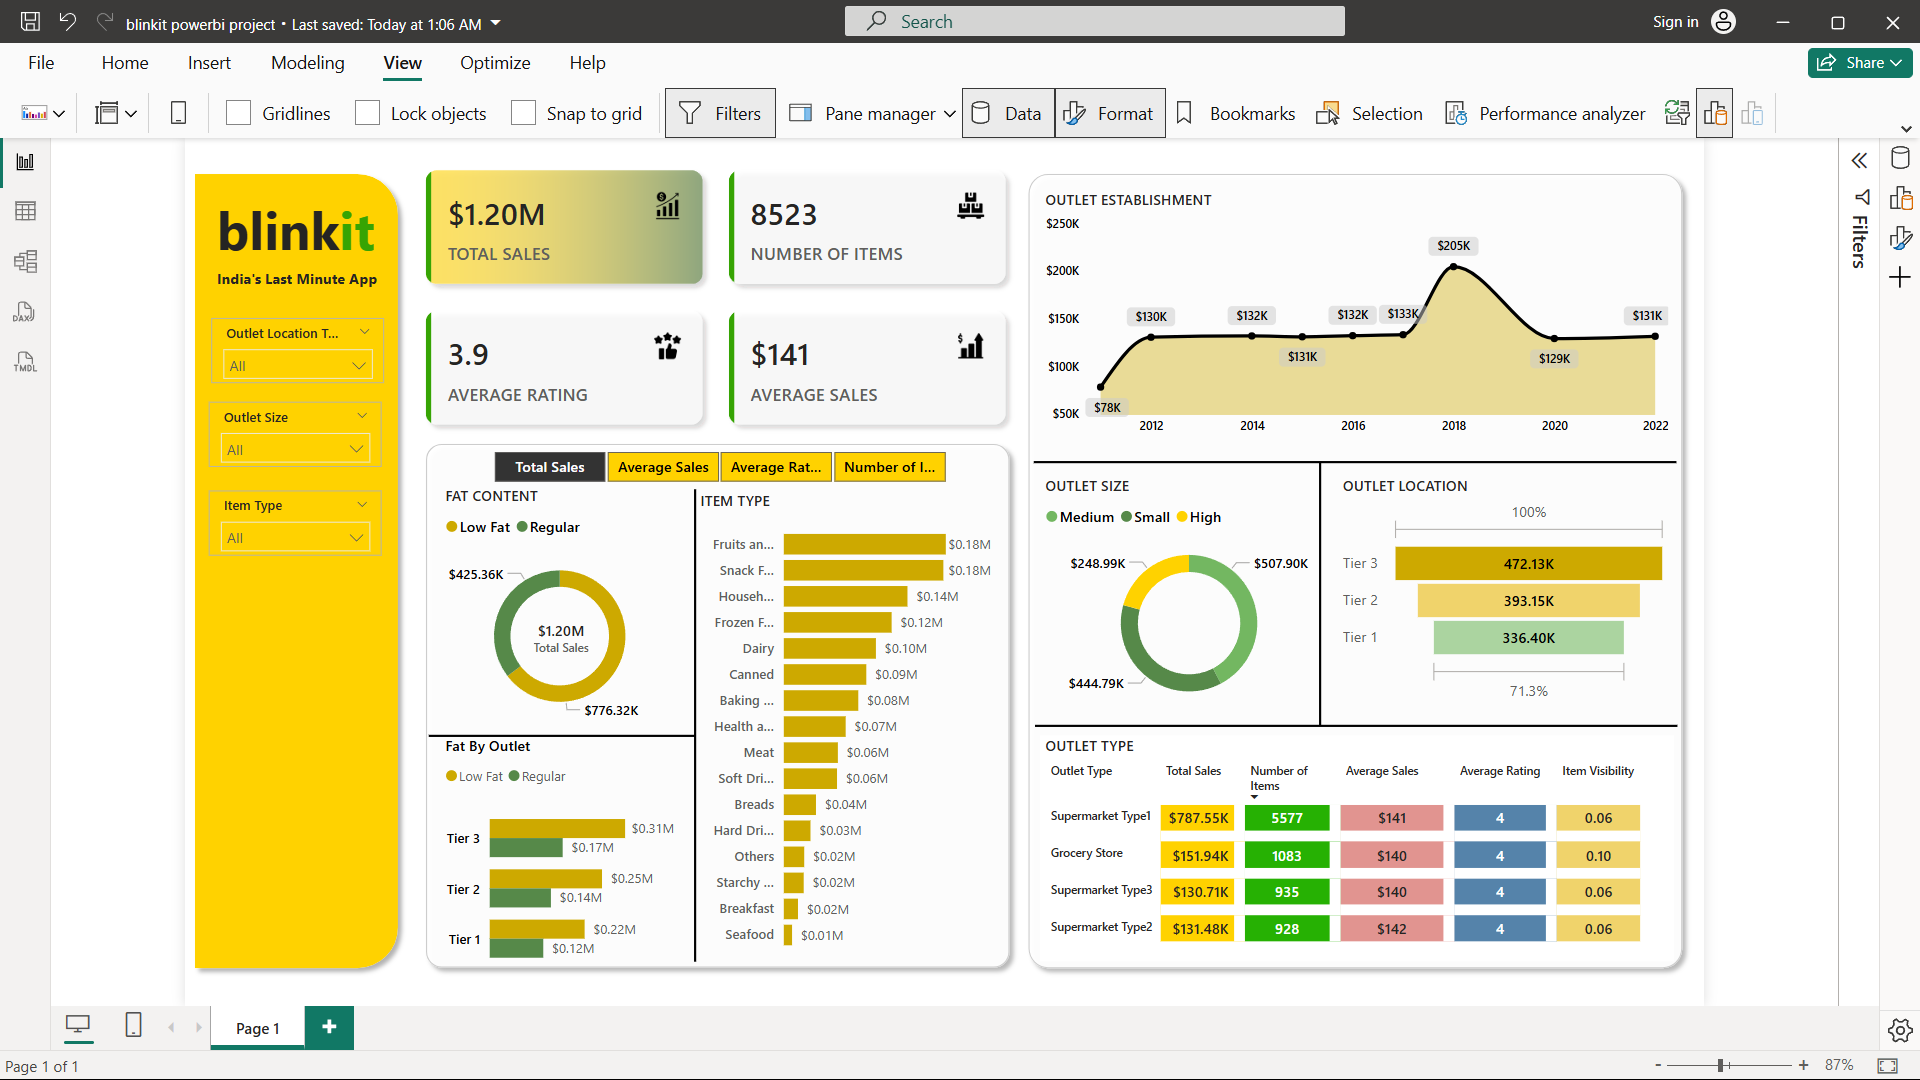

The dashboard page shown, as its layout file describes it:
{"tool":"powerbi","page":{"name":"Page 1","canvas":[1400,800],"ordinal":0},"visuals":[{"type":"shape","box":[0,23.7,205.1,749.6],"z":0},{"type":"textbox","box":[15.8,45.8,172,101],"z":1000},{"type":"textbox","box":[17.4,115.2,172,31.6],"z":2000},{"type":"cardVisual","fields":{"Data":["BlinkIT Grocery Data.Total Sales","BlinkIT Grocery Data.Number of Items","BlinkIT Grocery Data.Average Rating","BlinkIT Grocery Data.Average Sales"]},"box":[205.1,12.6,569.7,269.8],"z":3000},{"type":"shape","box":[213,273,555.5,500.2],"z":4000},{"type":"donutChart","title":"FAT CONTENT","fields":{"Y":["BlinkIT Grocery Data.Total Sales"],"Category":["BlinkIT Grocery Data.Item Fat Content"]},"box":[235.1,320.3,220.9,230.4],"z":5000},{"type":"slicer","fields":{"Values":["Metrics.Metrics"]},"box":[258.8,282.5,465.5,41],"z":6000},{"type":"cardVisual","fields":{"Data":["BlinkIT Grocery Data.Total Sales"]},"box":[291.9,421.3,108.9,77.3],"z":7000},{"type":"clusteredBarChart","title":"Fat By Outlet","fields":{"Y":["BlinkIT Grocery Data.Total Sales"],"Category":["BlinkIT Grocery Data.Outlet Location Type"],"Series":["BlinkIT Grocery Data.Item Fat Content"]},"box":[235.1,550.7,220.9,230.4],"z":8000},{"type":"shape","box":[224.1,523.9,246.2,53.7],"z":9000},{"type":"shape","box":[437.1,323.5,64.7,435.5],"z":10000},{"type":"barChart","title":"ITEM TYPE","fields":{"Y":["BlinkIT Grocery Data.Total Sales"],"Category":["BlinkIT Grocery Data.Item Type"]},"box":[470.3,325.1,277.7,434],"z":11000},{"type":"shape","box":[768.5,23.7,620.2,749.6],"z":12000},{"type":"lineChart","title":"OUTLET ESTABLISHMENT ","fields":{"Category":["BlinkIT Grocery Data.Outlet Establishment Year"],"Y":["BlinkIT Grocery Data.Total Sales"]},"box":[787.4,47.3,583.9,235.1],"z":13000},{"type":"shape","box":[782,271.4,592,53.7],"z":14000},{"type":"donutChart","title":"OUTLET SIZE","fields":{"Y":["BlinkIT Grocery Data.Total Sales"],"Category":["BlinkIT Grocery Data.Outlet Size"]},"box":[787.4,310.9,275,225],"z":15000},{"type":"shape","box":[1013.1,298.2,64.7,243],"z":16000},{"type":"funnel","title":"OUTLET LOCATION","fields":{"Y":["Sum(BlinkIT Grocery Data.Sales)"],"Category":["BlinkIT Grocery Data.Outlet Location Type"]},"box":[1062,310.9,309.3,213],"z":17000},{"type":"shape","box":[782.7,514.4,591.8,53.7],"z":18000},{"type":"pivotTable","title":"OUTLET TYPE","fields":{"Rows":["BlinkIT Grocery Data.Outlet Type"],"Values":["BlinkIT Grocery Data.Total Sales","BlinkIT Grocery Data.Number of Items","BlinkIT Grocery Data.Average Sales","BlinkIT Grocery Data.Average Rating","Avg(BlinkIT Grocery Data.Item Visibility)"]},"box":[787.4,550.7,583.9,208.3],"z":19000},{"type":"slicer","fields":{"Values":["BlinkIT Grocery Data.Outlet Location Type"]},"box":[23.7,165.7,159.4,60],"z":20000},{"type":"slicer","fields":{"Values":["BlinkIT Grocery Data.Outlet Size"]},"box":[22.1,243,159.4,60],"z":21000},{"type":"slicer","fields":{"Values":["BlinkIT Grocery Data.Item Type"]},"box":[22.1,325.1,159.4,60],"z":22000}]}

Visuals, with their boxes on the page's 1400x800 design canvas (x1, y1, x2, y2). These are canvas units, not pixel positions in the 1920x1080 screenshot, which may show the page scaled, cropped or inside an application window:
shape: locate(0, 24, 205, 773)
textbox: locate(16, 46, 188, 147)
textbox: locate(17, 115, 189, 147)
cardVisual - BlinkIT Grocery Data.Total Sales x BlinkIT Grocery Data.Number of Items: locate(205, 13, 775, 282)
shape: locate(213, 273, 768, 773)
"FAT CONTENT" donutChart: locate(235, 320, 456, 551)
slicer - Metrics.Metrics: locate(259, 282, 724, 324)
cardVisual - BlinkIT Grocery Data.Total Sales: locate(292, 421, 401, 499)
"Fat By Outlet" clusteredBarChart: locate(235, 551, 456, 781)
shape: locate(224, 524, 470, 578)
shape: locate(437, 324, 502, 759)
"ITEM TYPE" barChart: locate(470, 325, 748, 759)
shape: locate(768, 24, 1389, 773)
"OUTLET ESTABLISHMENT " lineChart: locate(787, 47, 1371, 282)
shape: locate(782, 271, 1374, 325)
"OUTLET SIZE" donutChart: locate(787, 311, 1062, 536)
shape: locate(1013, 298, 1078, 541)
"OUTLET LOCATION" funnel: locate(1062, 311, 1371, 524)
shape: locate(783, 514, 1374, 568)
"OUTLET TYPE" pivotTable: locate(787, 551, 1371, 759)
slicer - BlinkIT Grocery Data.Outlet Location Type: locate(24, 166, 183, 226)
slicer - BlinkIT Grocery Data.Outlet Size: locate(22, 243, 182, 303)
slicer - BlinkIT Grocery Data.Item Type: locate(22, 325, 182, 385)
